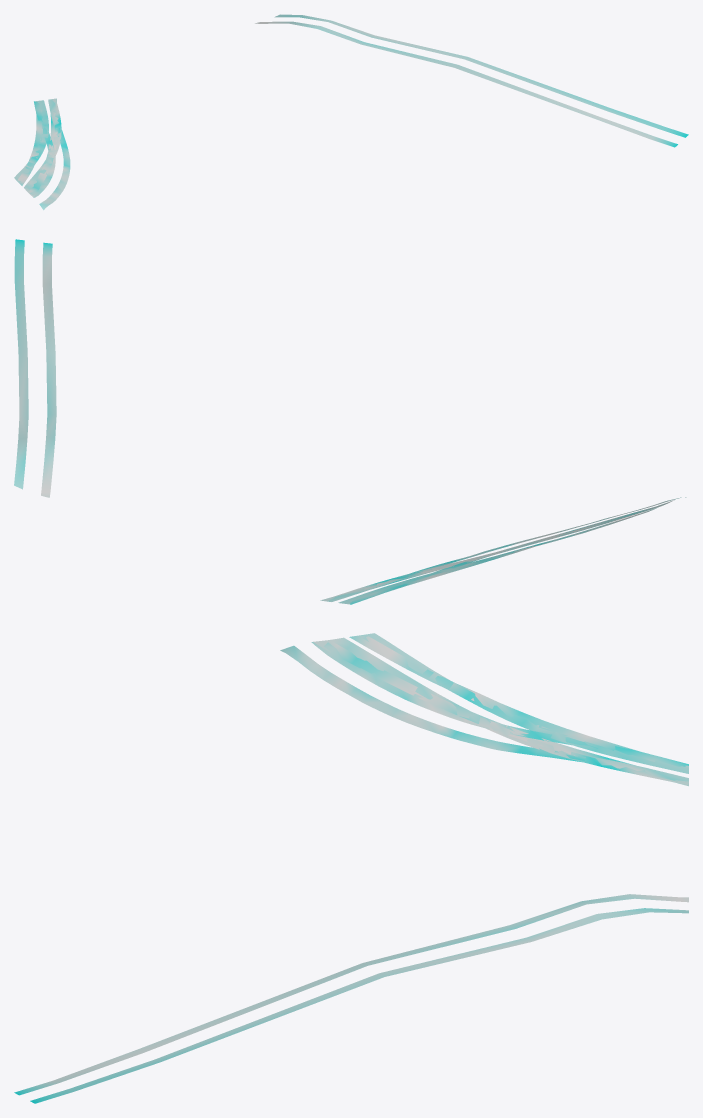
The picture shows the model from 3 angles, top to bottom: view 1: azimuth 30°, elevation 25°; view 2: azimuth 150°, elevation 25°; view 3: azimuth 270°, elevation 25°; orthographic projection. The views are drawn at different scales.
Parts seen in each view (by area): view 1: SpaceCenter_Long3_GenerateRoad_Sand_TireTracks_Narrow_Mesh_x; view 2: SpaceCenter_Long3_GenerateRoad_Sand_TireTracks_Narrow_Mesh_x; view 3: SpaceCenter_Long3_GenerateRoad_Sand_TireTracks_Narrow_Mesh_x.
Part boxes in pixels (left/top/right/bottom): SpaceCenter_Long3_GenerateRoad_Sand_TireTracks_Narrow_Mesh_x: left=14, top=14, right=688, bottom=210; SpaceCenter_Long3_GenerateRoad_Sand_TireTracks_Narrow_Mesh_x: left=14, top=239, right=686, bottom=604; SpaceCenter_Long3_GenerateRoad_Sand_TireTracks_Narrow_Mesh_x: left=14, top=633, right=688, bottom=1103.
Bounding box in the file's own units: 1346 × 2089 × 139.
